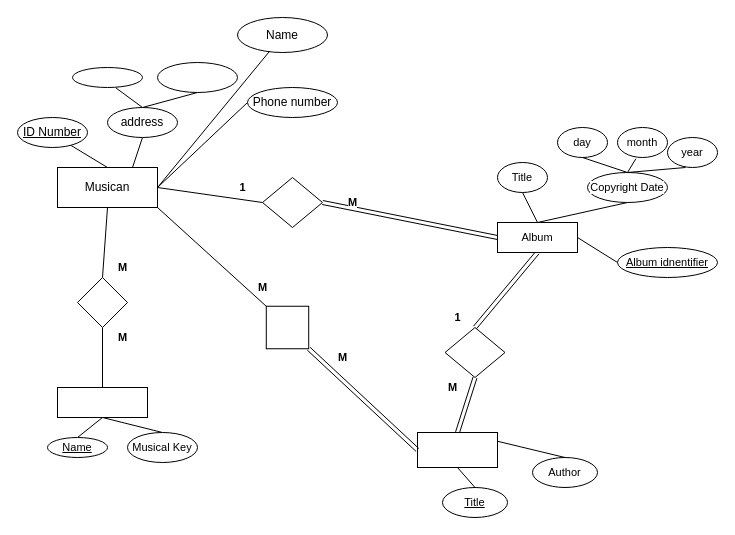
This 735x535 diagram has some shape labels left out. Each missing label, with the centre of its shape:
City: the point at 197,77
has: the point at 474,352
have: the point at 292,202
Instruments: the point at 102,402
Perform: the point at 287,327
Play: the point at 102,302
Song: the point at 457,450
Street: the point at 107,77
